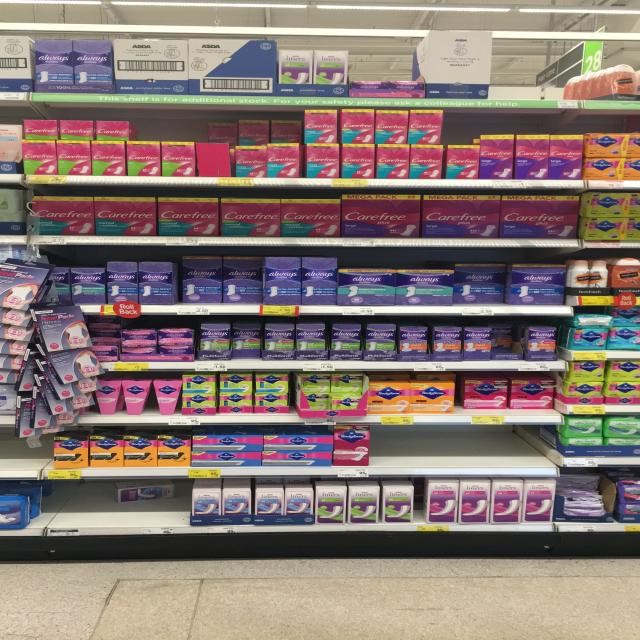empty: (363, 424, 544, 468), (486, 38, 576, 106), (31, 482, 121, 534)
